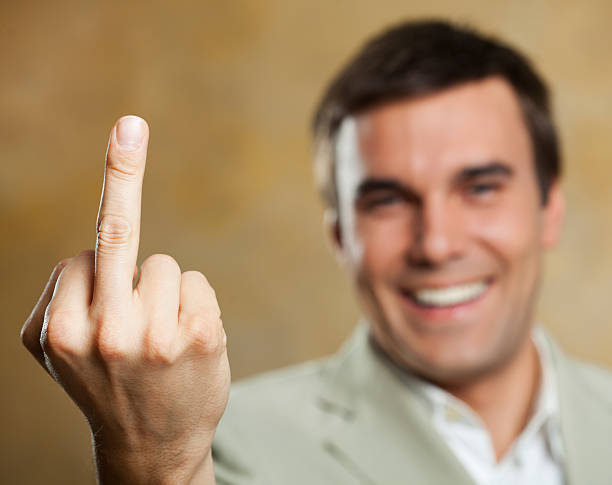insulting_gesture: (17, 114, 232, 485)
